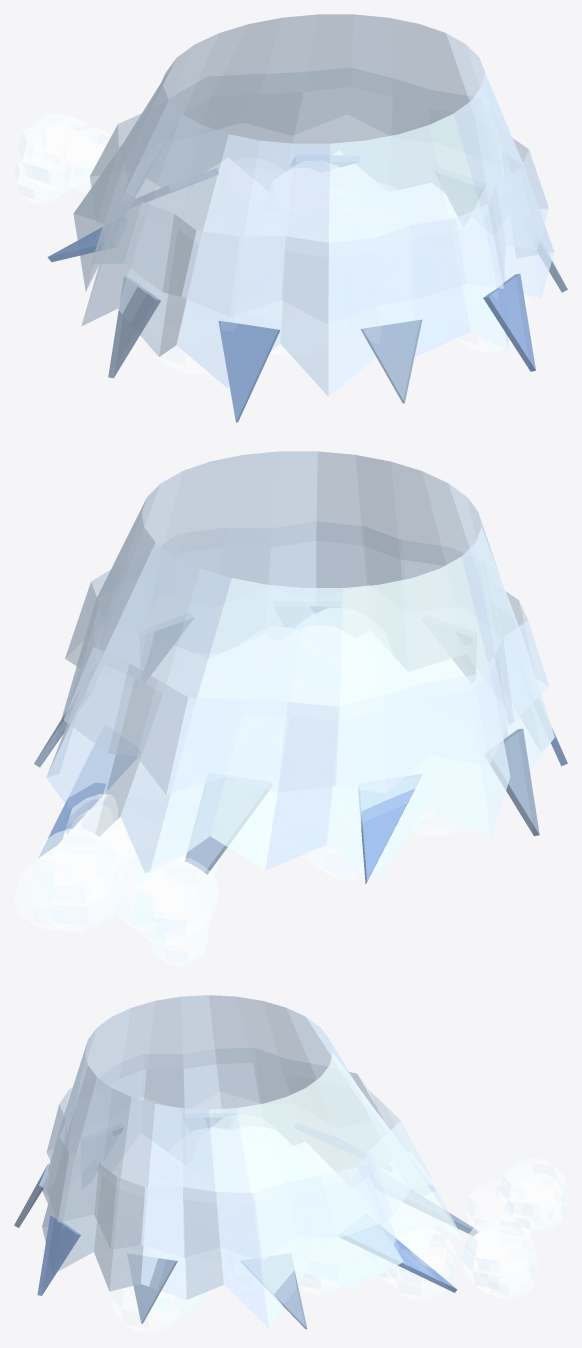
The model's file is fog_courtier_hem.glb.
3 renders of one model, top to bottom at view 1: azimuth 30°, elevation 25°; view 2: azimuth 150°, elevation 25°; view 3: azimuth 270°, elevation 25°, orthographic. The views are drawn at different scales.
Parts seen in each view (by area): view 1: fog_courtier_hem; view 2: fog_courtier_hem; view 3: fog_courtier_hem.
Part boxes in pixels (x1,y1,x2,y2): fog_courtier_hem: (14,14,567,422); fog_courtier_hem: (14,451,567,966); fog_courtier_hem: (14,995,567,1333).
Size of the model in its own units: 1.07 by 0.6713 by 1.47.
